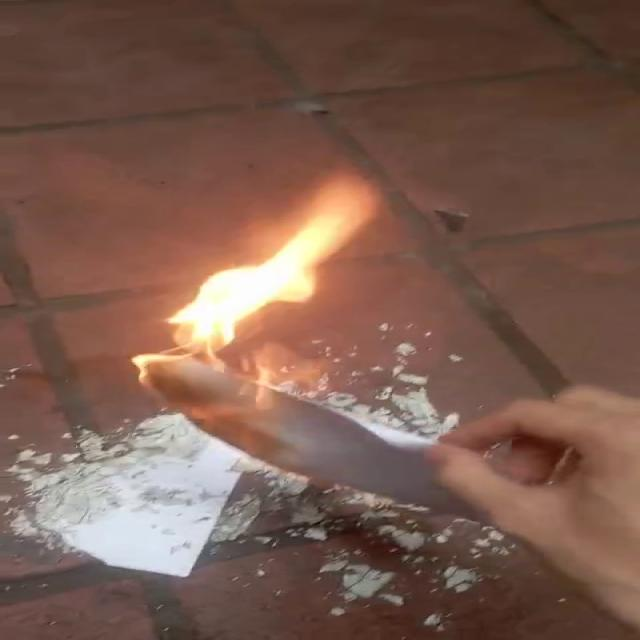Fire_Dangerous: (119, 171, 354, 463)
